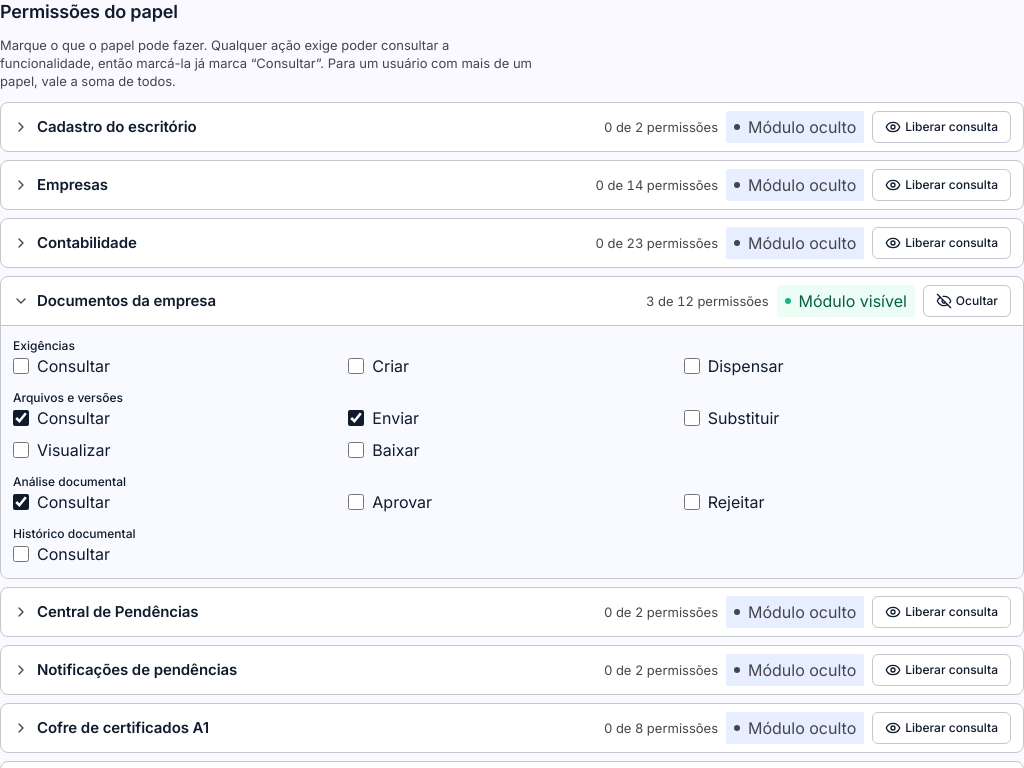
Test: ocultar módulo (§3.3) › pede confirmação que diz quantas permissões saem, e nada muda antes de confirmar
Click the button with aria-label "Ocultar módulo Documentos da empresa" at (967, 301), box [923,285,1011,317]
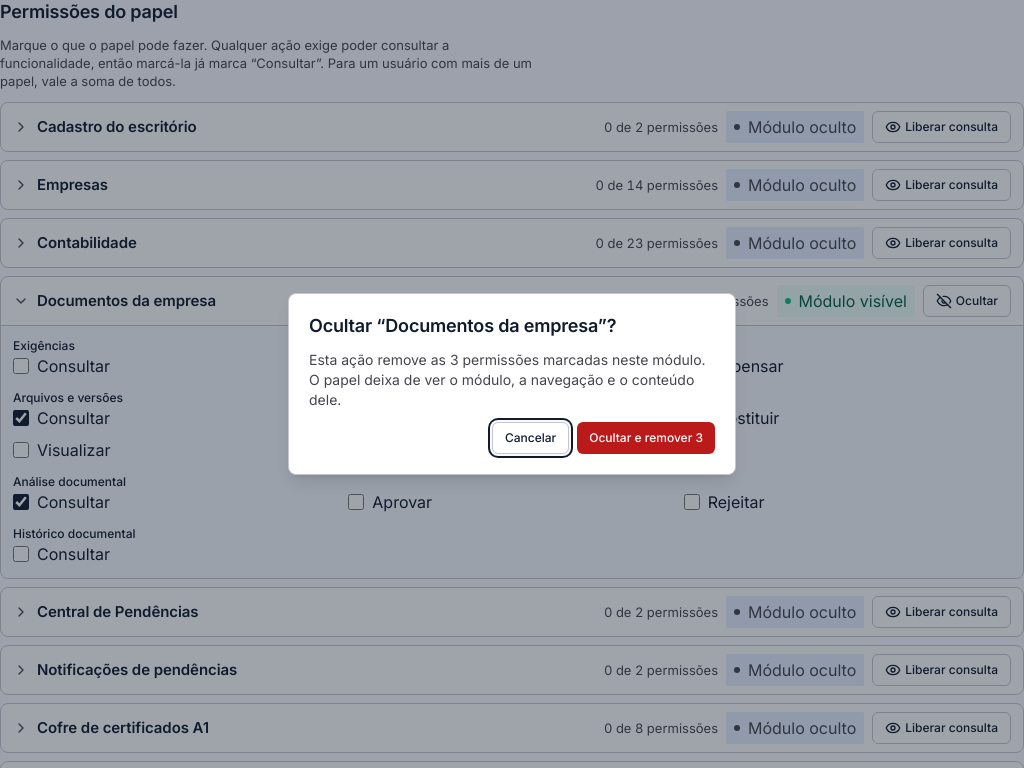
Expected: the text "Módulo visível" is shown, [776,285,915,317]
Expected: the dialog shows "Ocultar “Documentos da empresa”?", [309,315,616,336]
Expected: the dialog shows "3 permissões marcadas", [309,351,706,408]
